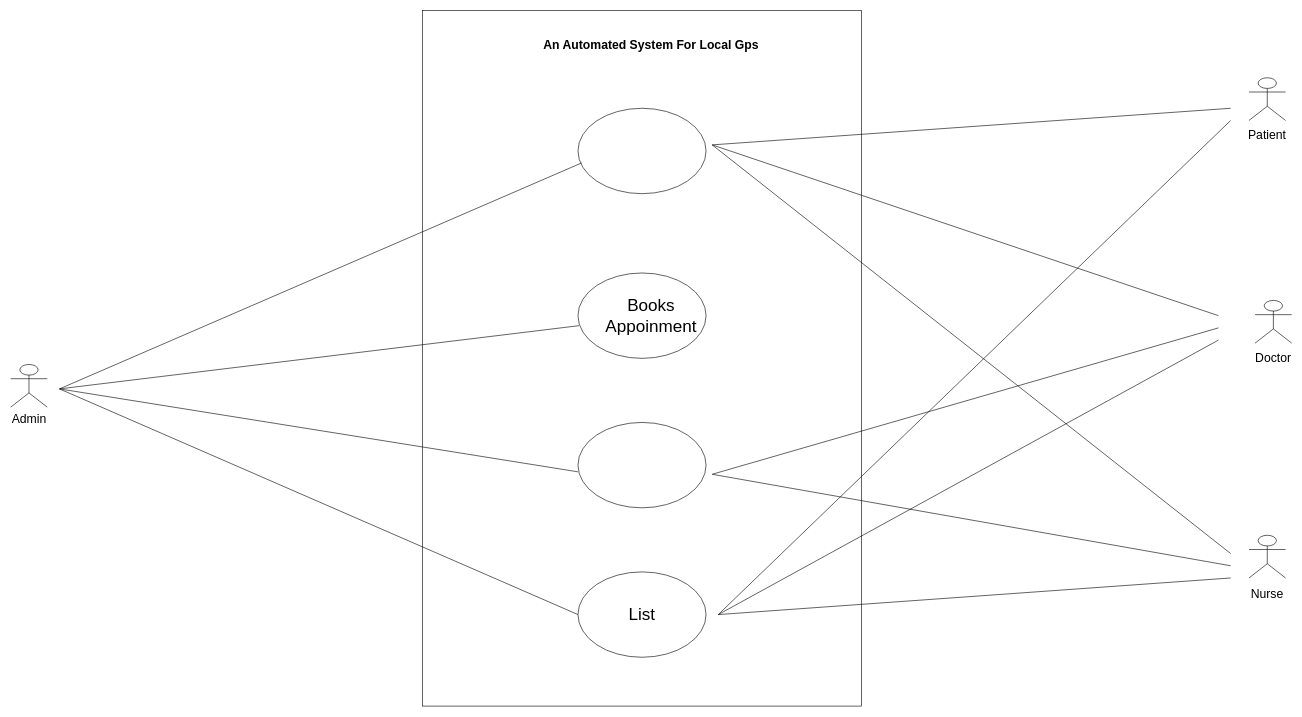
Image size: 1302x717. Some labels were removed from this diagram. The centre of each missing label's shape, as x and y in pixels:
"Registers" belongs at (x=641, y=151).
"Removes / Deletes" belongs at (x=641, y=465).
